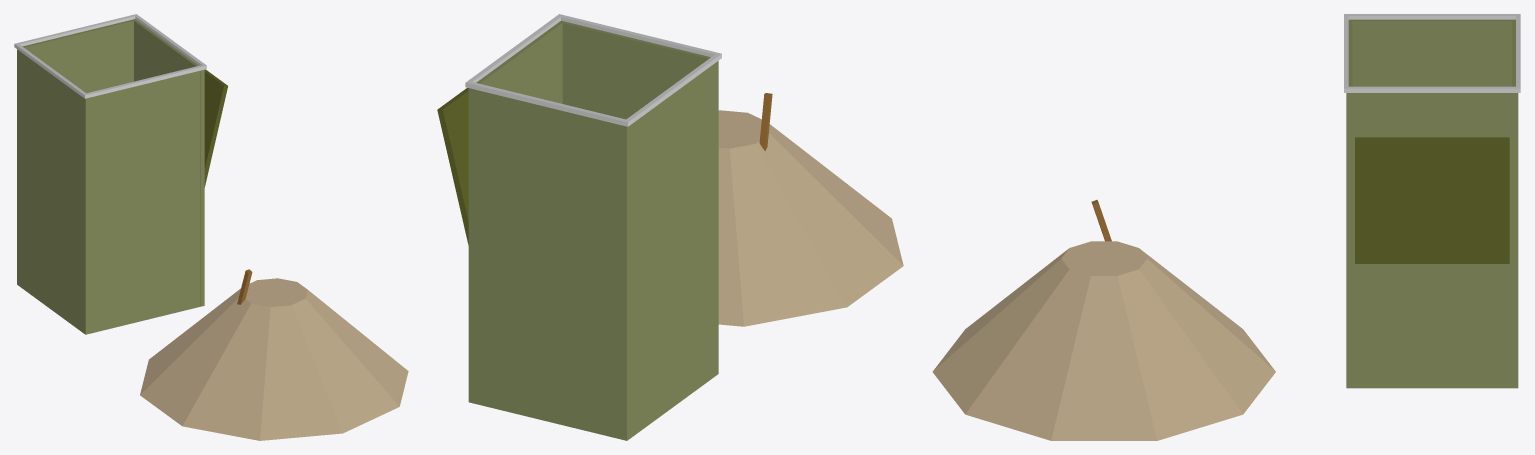
The model's file is SM_ObraHescoAbierto_v3_10m_LOD0.fbx.
3 views of the same model, side by side, from view 1: azimuth 30°, elevation 25°; view 2: azimuth 150°, elevation 25°; view 3: azimuth 270°, elevation 25° (orthographic). The views are drawn at different scales.
Visible parts, largest first — view 1: SM_obra_curso_v27_LOD0; view 2: SM_obra_curso_v27_LOD0; view 3: SM_obra_curso_v27_LOD0.
Part boxes in pixels (left/top/right/bottom): SM_obra_curso_v27_LOD0: left=14, top=14, right=408, bottom=440; SM_obra_curso_v27_LOD0: left=437, top=14, right=903, bottom=440; SM_obra_curso_v27_LOD0: left=932, top=14, right=1520, bottom=440.
Bounding box in the file's own units: 2.09 × 2.14 × 3.76.
